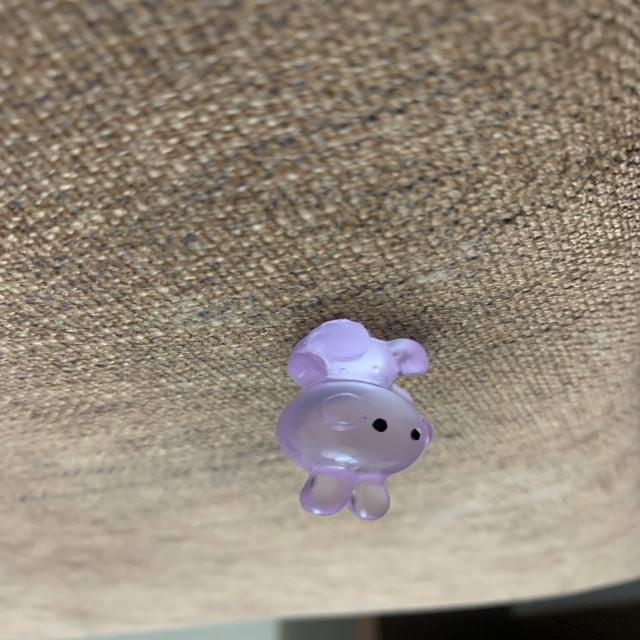Teddy: (277, 319, 433, 520)
